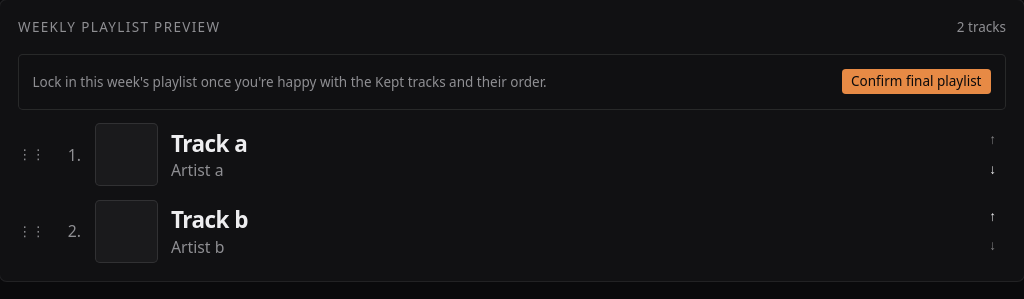
Test: WeeklyPlaylistPreview › confirming persists the edition via the backend before locking
Click the button "Confirm final playlist": (916, 82) [841,68,992,96]
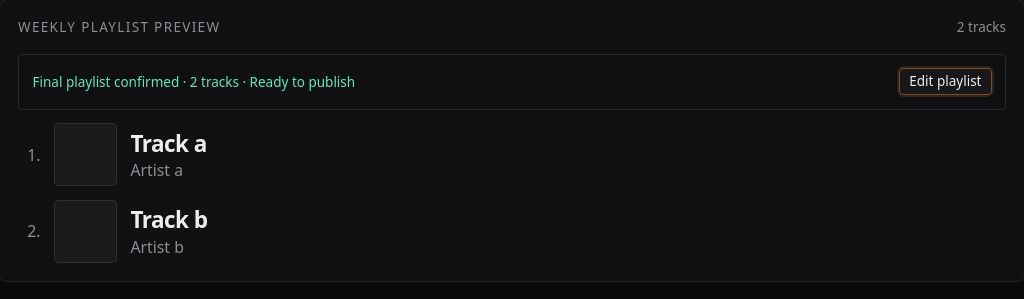
Result: the text "Final playlist confirmed" is shown at [32,73,355,91]
